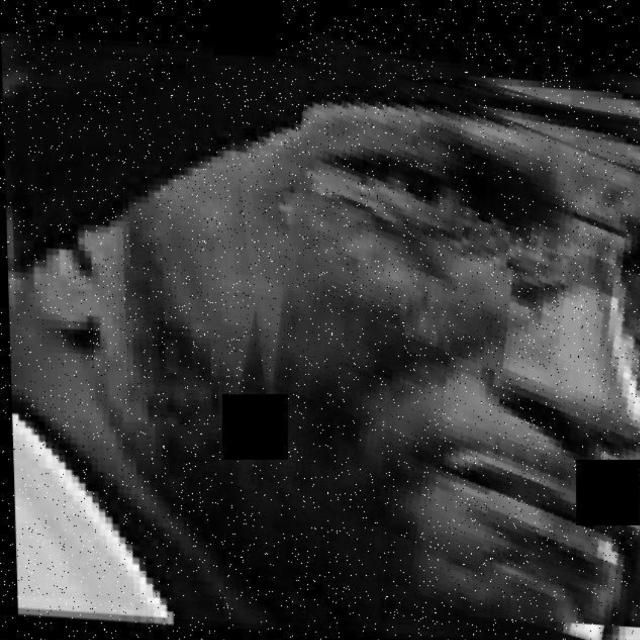Sad: (146, 73, 640, 632)
